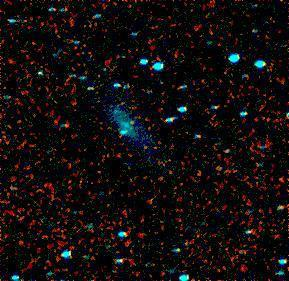star: (119, 105, 149, 135)
